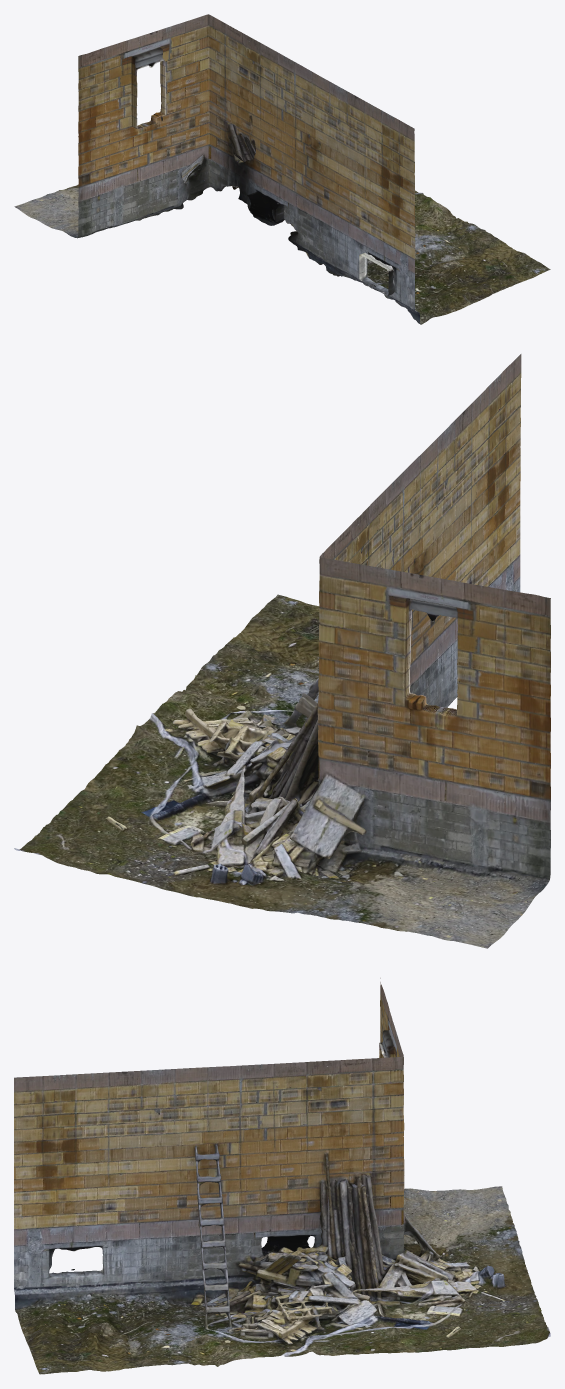
The model's file is sf-house-under-construction-01-free-sample-2f1601.glb.
3 renders of one model, top to bottom at view 1: azimuth 30°, elevation 25°; view 2: azimuth 150°, elevation 25°; view 3: azimuth 270°, elevation 25°, orthographic. The views are drawn at different scales.
Parts seen in each view (by area): view 1: Object_2; view 2: Object_2; view 3: Object_2.
Part boxes in pixels (<box>): Object_2: <box>14,14,550,324</box>; Object_2: <box>14,354,550,948</box>; Object_2: <box>14,978,550,1374</box>.
Size of the model in its own units: 8.62 by 4.87 by 10.3.
Materials: 1 (1 with a texture image).
